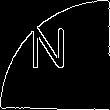N_S: (34, 29, 76, 81)
